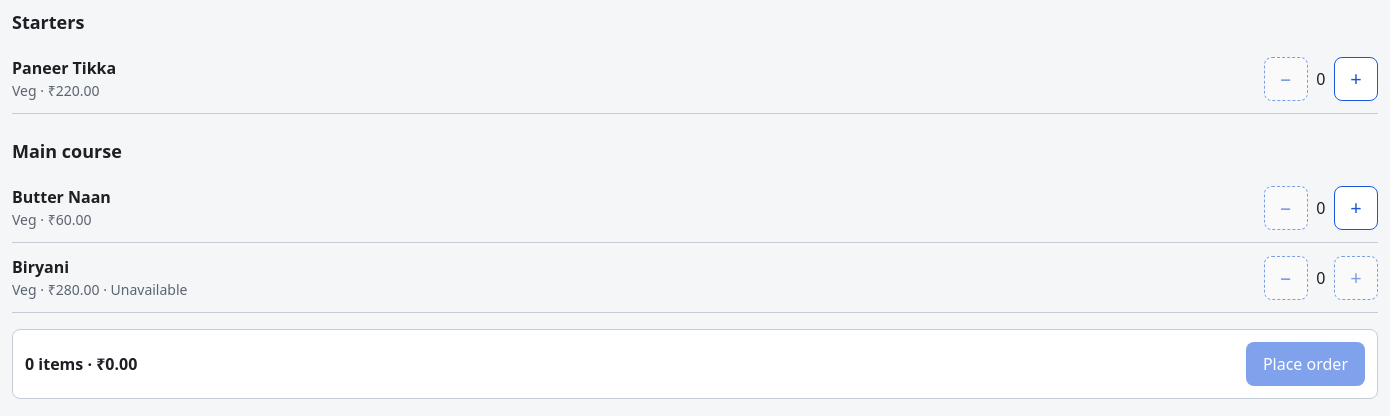
RestaurantPage: the cart › tells screen readers the new count and total after every cart change
Click the button named "Add Paneer Tikka" at [1356, 78], box [1334,56,1378,100]
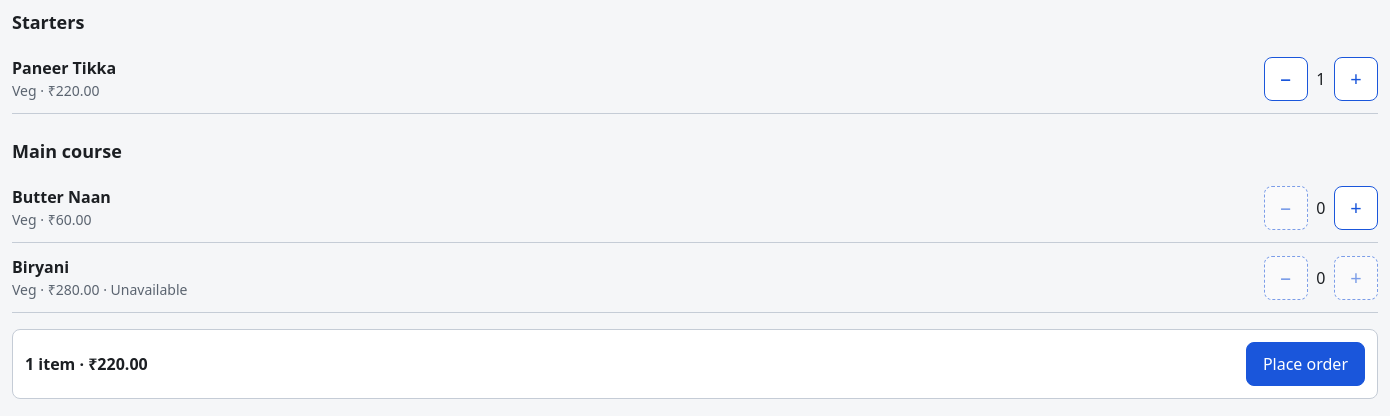
Result: the message reads "1 item · ₹220.00" at [25,352,148,376]
Click the button named "Remove one Paneer Tikka" at [1286, 78], box [1264,56,1308,100]
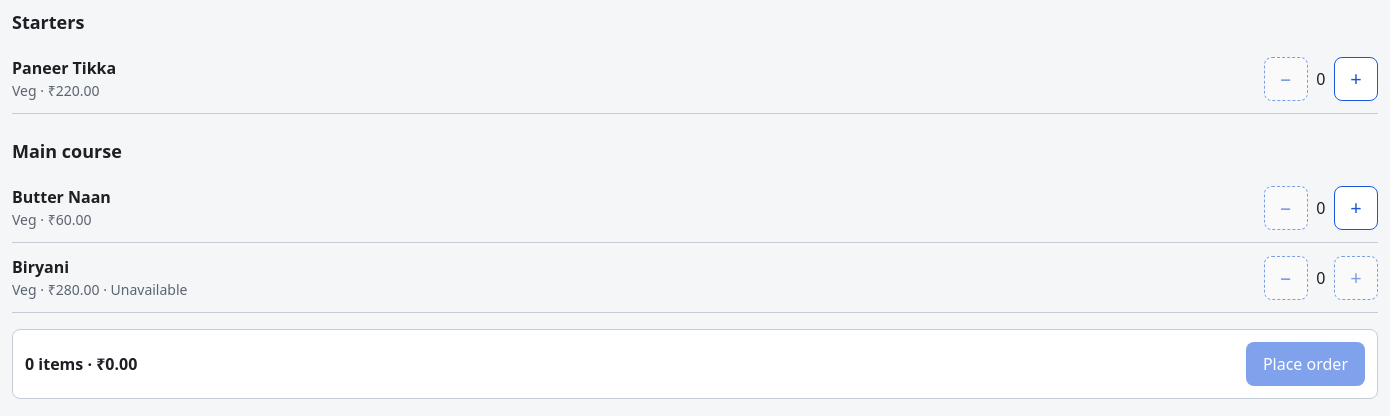
Result: the message reads "0 items · ₹0.00" at [25,352,137,376]
